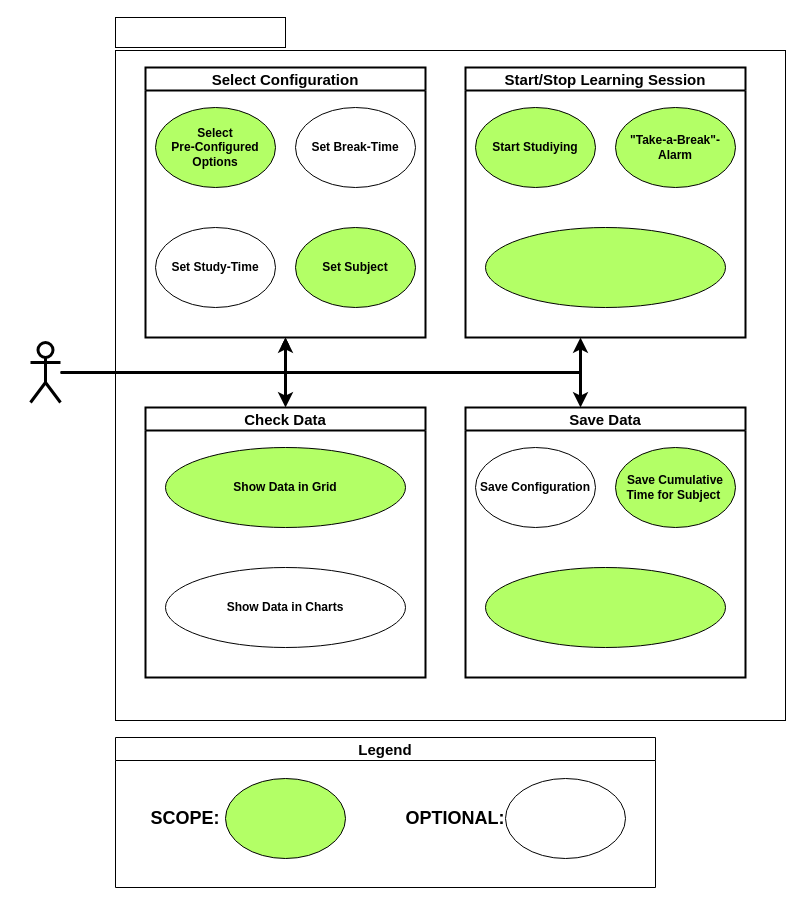
Image size: 803x905. Some labels were removed from this diagram. Each missing label, with the centre of its shape:
"Project Ortus" goes at pixel 200 32.
"Record Time" goes at pixel 605 267.
"Save Overall Learning Time" goes at pixel 605 607.
"Student" goes at pixel 45 372.
